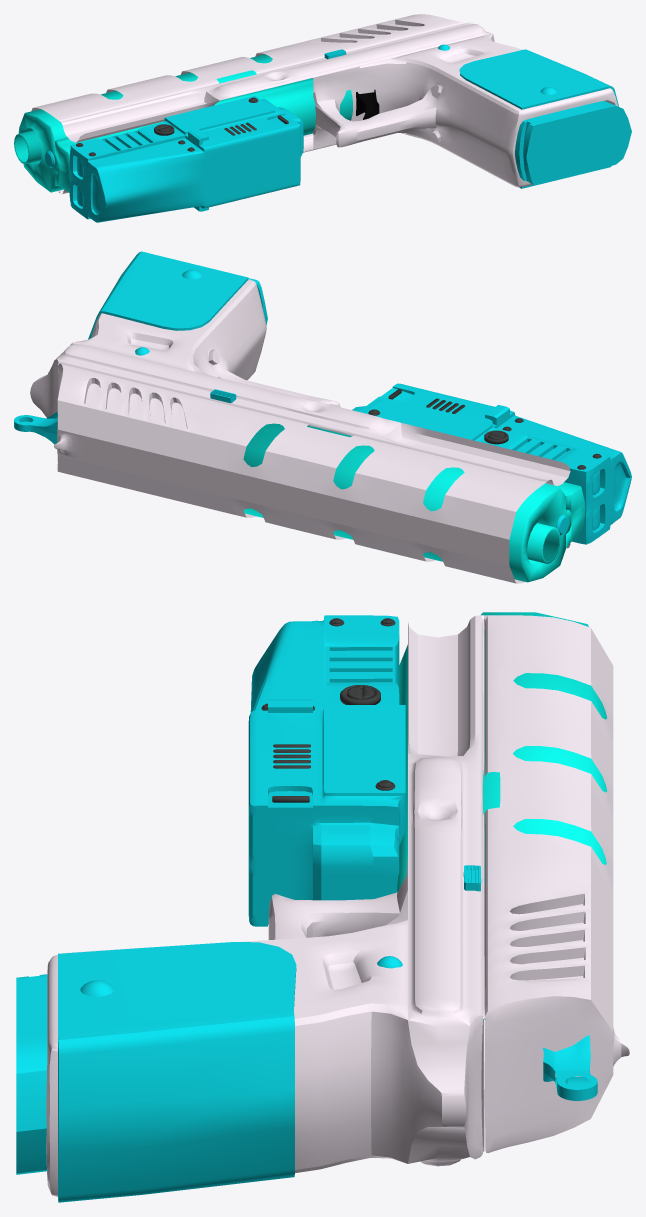
Rendered from Pew_Pew.glb.
3 renders of one model, top to bottom at view 1: azimuth 30°, elevation 25°; view 2: azimuth 150°, elevation 25°; view 3: azimuth 270°, elevation 25°, orthographic. The views are drawn at different scales.
Parts seen in each view (by area): view 1: Plane, Cube.006, Cube.005, Cube.003, Cube.008; view 2: Plane, Cube.006, Cube.005, Cube.003; view 3: Plane, Cube.006, Cube.005, Cube.003.
Boxes of the visible parts, box(x1,y1,x2,y2) form: Plane: box(31, 14, 617, 194); Cube.006: box(45, 44, 631, 222); Cube.005: box(14, 54, 352, 192); Cube.003: box(76, 97, 288, 156); Cube.008: box(356, 89, 379, 119); Plane: box(30, 279, 570, 583); Cube.006: box(14, 251, 631, 544); Cube.005: box(243, 423, 585, 582); Cube.003: box(368, 389, 601, 469); Plane: box(46, 615, 629, 1196); Cube.006: box(16, 615, 597, 1202); Cube.005: box(397, 612, 606, 1019); Cube.003: box(261, 618, 395, 802).
Bounding box in the file's own units: 0.2045 × 0.035 × 0.1142.
5 materials, 1 textured.
